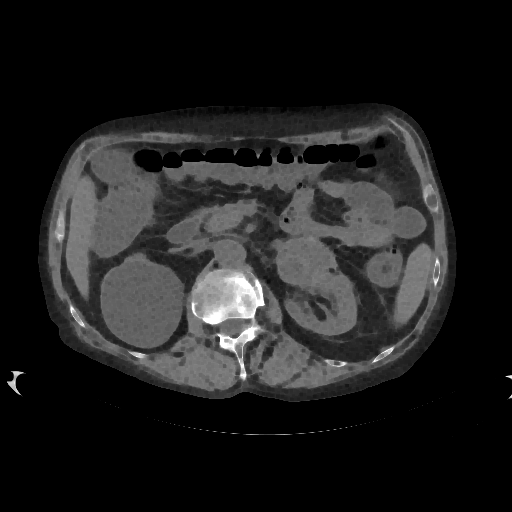Lesion: (272, 237, 341, 289)
